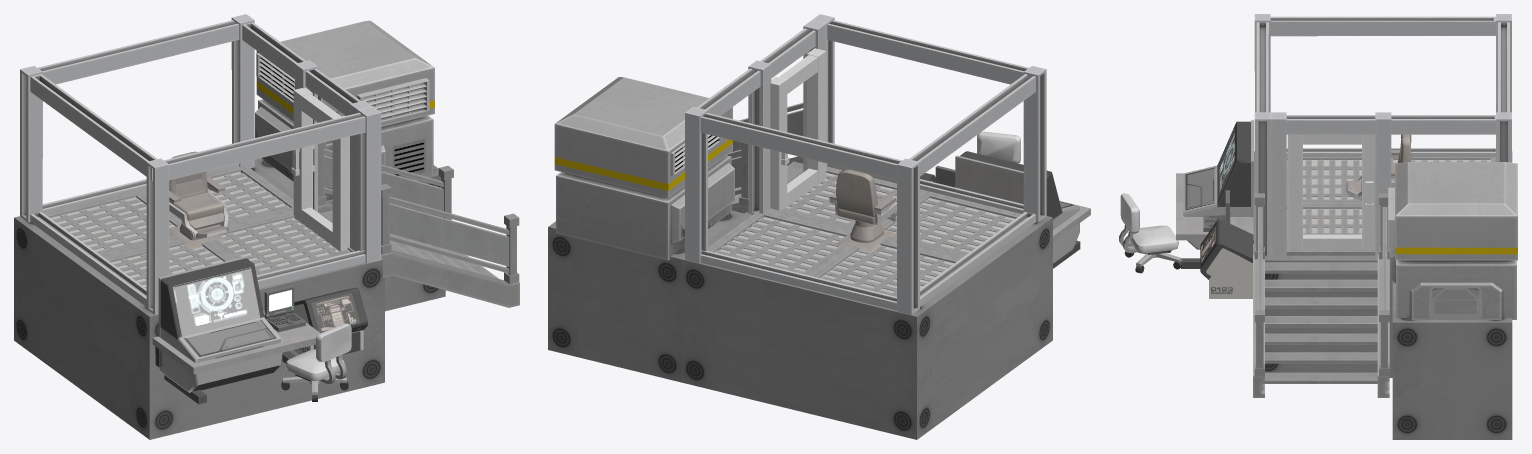
Rendered from Pfb_ObservationDeck_Temp__6.fbx.
3 renders of one model, left to right at view 1: azimuth 30°, elevation 25°; view 2: azimuth 150°, elevation 25°; view 3: azimuth 270°, elevation 25°, orthographic. The views are drawn at different scales.
Parts seen in each view (by area): view 1: Mat_SteelFrame_01, MAT_ScalableMesh_01, Mat_Ventilation_Soda, Mat_Stairs_Soda, Mat_Network_01_2, MAT_Soda_Instruments_Grey 6, Mat_TS_Metall 2, Mat_Tile_Color_01 7, Mat_Tile_Color_07 2, Mat_Chair_01, Mat_Table_01, MAT_Soda_Instruments_Grey 7 (+2 smaller); view 2: MAT_ScalableMesh_01, Mat_SteelFrame_01, Mat_Ventilation_Soda, Mat_Network_01_2, Mat_TS_Metall 2, Mat_Tile_Color_01 7, Mat_Tile_Color_07 2, Mat_CementMold_1, Mat_Stairs_Soda, MAT_Soda_Instruments_Grey 6, Mat_Chair_01, Mat_Table_01; view 3: MAT_ScalableMesh_01, Mat_Ventilation_Soda, Mat_SteelFrame_01, Mat_Stairs_Soda, Mat_TS_Metall 2, Mat_Network_01_2, MAT_Soda_Instruments_Grey 6, MAT_Soda_Instruments_Grey 7, Mat_Chair_01, Mat_Tile_Color_01 7, Mat_Table_01, Mat_Tile_Color_07 2 (+1 smaller).
Part boxes in pixels (box(x1,y1,x2,y2)): Mat_SteelFrame_01: box(20, 14, 381, 314); MAT_ScalableMesh_01: box(14, 158, 445, 439); Mat_Ventilation_Soda: box(255, 20, 434, 200); Mat_Stairs_Soda: box(318, 142, 519, 307); Mat_Network_01_2: box(37, 165, 354, 296); MAT_Soda_Instruments_Grey 6: box(159, 258, 282, 392); Mat_TS_Metall 2: box(293, 88, 349, 251); Mat_Tile_Color_01 7: box(50, 172, 339, 286); Mat_Tile_Color_07 2: box(169, 151, 226, 249); Mat_Chair_01: box(281, 323, 351, 401); Mat_Table_01: box(152, 310, 320, 404); MAT_Soda_Instruments_Grey 7: box(293, 287, 367, 354); MAT_ScalableMesh_01: box(548, 171, 1052, 439); Mat_SteelFrame_01: box(685, 14, 1046, 315); Mat_Ventilation_Soda: box(554, 77, 734, 260); Mat_Network_01_2: box(708, 166, 1028, 296); Mat_TS_Metall 2: box(770, 48, 826, 210); Mat_Tile_Color_01 7: box(719, 173, 1014, 293); Mat_Tile_Color_07 2: box(829, 169, 896, 253); Mat_CementMold_1: box(955, 155, 1023, 204); Mat_Stairs_Soda: box(727, 102, 803, 213); MAT_Soda_Instruments_Grey 6: box(960, 151, 1079, 263); Mat_Chair_01: box(977, 131, 1020, 163); Mat_Table_01: box(1053, 201, 1090, 268); MAT_ScalableMesh_01: box(1253, 151, 1512, 439); Mat_Ventilation_Soda: box(1388, 162, 1517, 319); Mat_SteelFrame_01: box(1254, 14, 1511, 259); Mat_Stairs_Soda: box(1253, 193, 1389, 397); Mat_TS_Metall 2: box(1287, 134, 1375, 250); Mat_Network_01_2: box(1286, 157, 1495, 255); MAT_Soda_Instruments_Grey 6: box(1183, 121, 1250, 249); MAT_Soda_Instruments_Grey 7: box(1200, 219, 1252, 298); Mat_Chair_01: box(1119, 193, 1182, 273); Mat_Tile_Color_01 7: box(1303, 160, 1490, 233); Mat_Table_01: box(1176, 173, 1253, 268); Mat_Tile_Color_07 2: box(1347, 134, 1411, 194).
Bounding box in the file's own units: 6.29 × 4.39 × 6.17.
16 materials, 16 textured.
